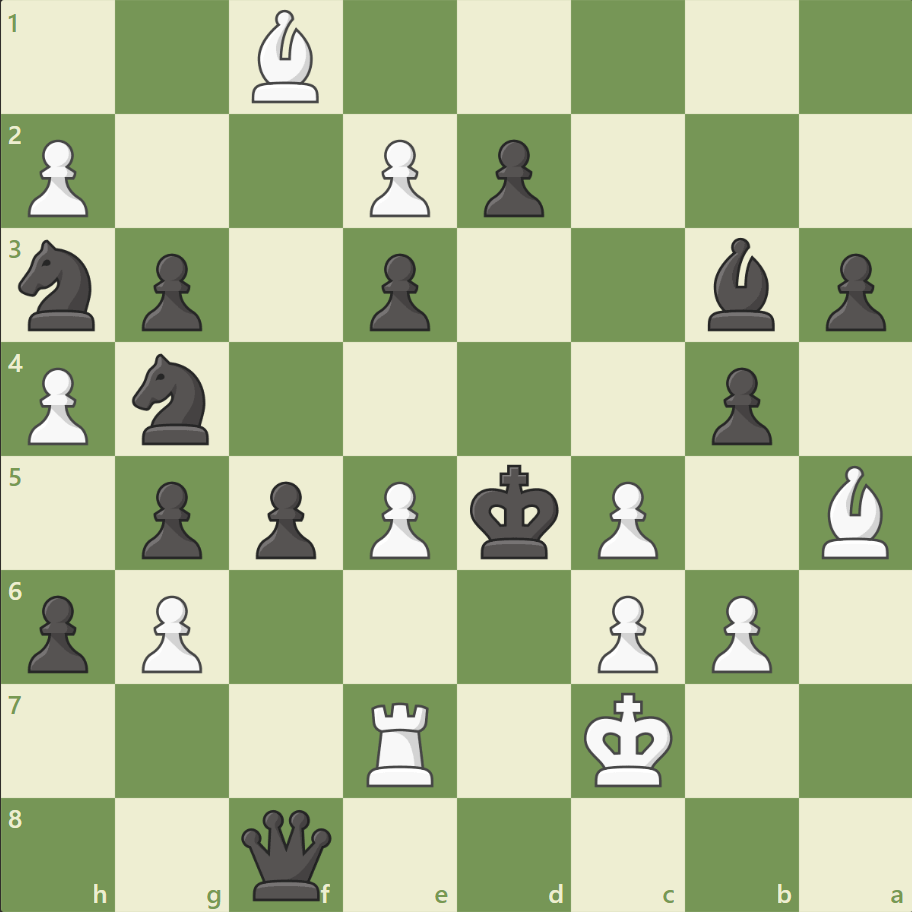B: (812, 460, 896, 563), (244, 6, 328, 109)
K: (579, 685, 679, 793)
P: (701, 586, 776, 677), (133, 586, 208, 677), (20, 359, 95, 450), (20, 132, 95, 223), (588, 586, 662, 677), (588, 473, 662, 564), (361, 473, 435, 564), (361, 132, 435, 223)
R: (360, 693, 442, 790)
b: (698, 233, 782, 336)
k: (465, 458, 565, 566)
n: (124, 348, 222, 450), (11, 234, 108, 337)
p: (20, 586, 95, 677), (247, 473, 322, 564), (133, 473, 208, 564), (701, 359, 776, 450), (133, 246, 208, 337), (474, 132, 549, 223), (815, 246, 889, 337), (361, 246, 435, 337)
q: (237, 804, 336, 903)
